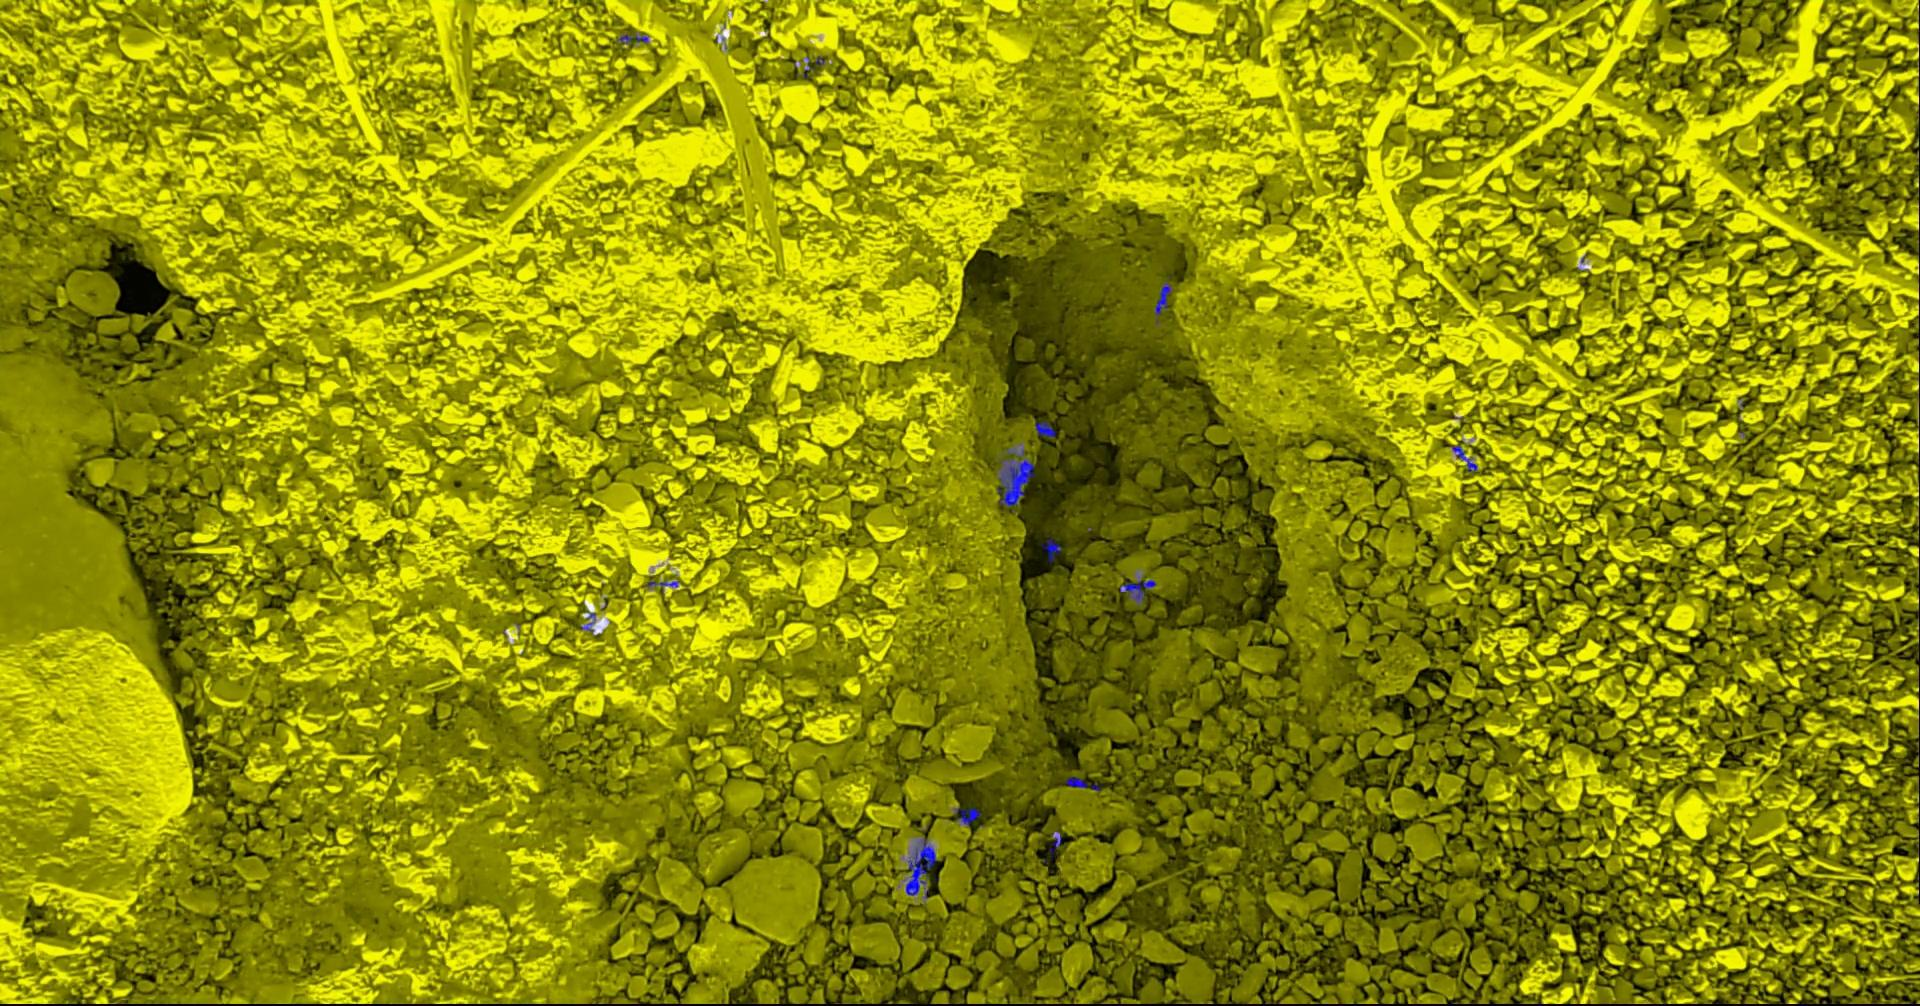ant: (905, 836, 936, 898), (1119, 575, 1156, 605), (1153, 277, 1171, 326), (1451, 445, 1477, 471), (1065, 775, 1100, 791), (952, 807, 982, 826), (1041, 535, 1062, 561), (1034, 420, 1055, 437), (617, 32, 648, 43), (580, 610, 596, 633), (1048, 833, 1062, 856), (648, 580, 678, 589)
